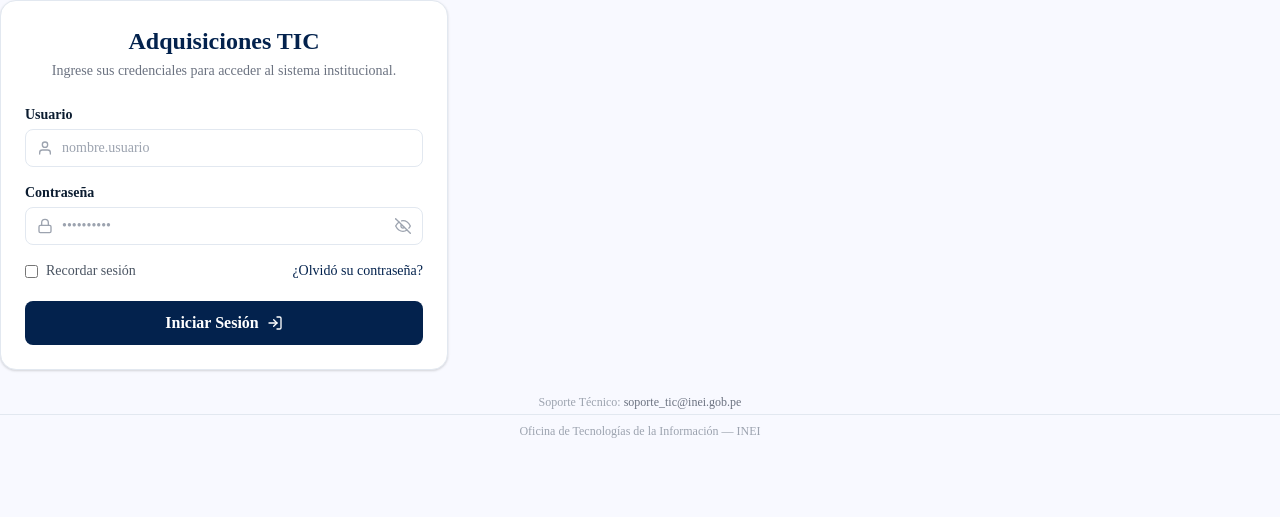
Test: LoginPage › shows error message when login returns 401
In the field labelled "Usuario": (224, 148) top-left (25, 129), bottom-right (423, 167), type "admin"
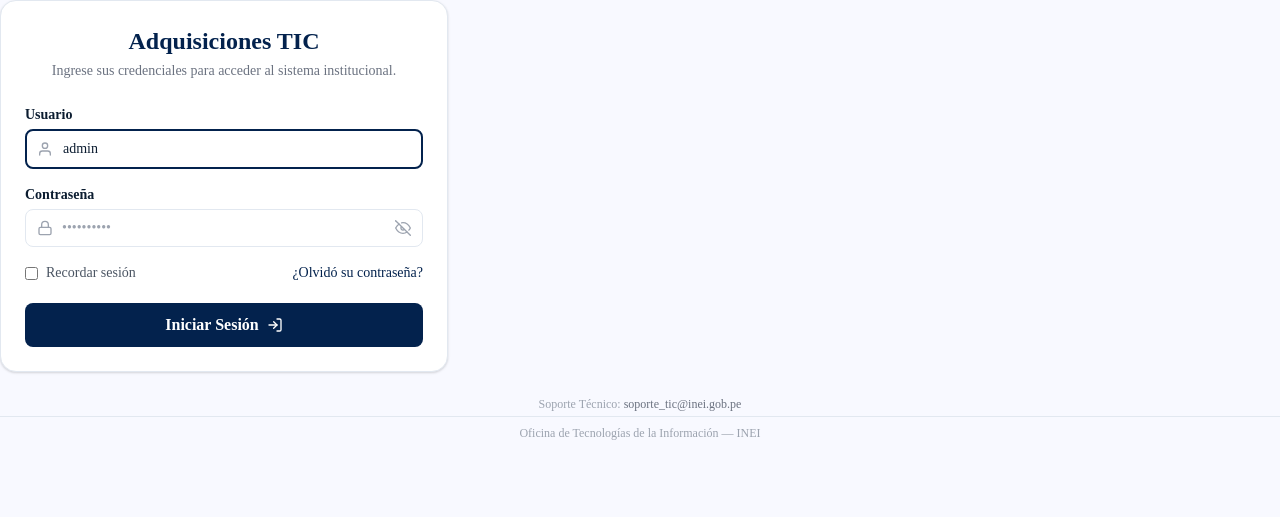
In the password field labelled "Contraseña": (224, 228) top-left (25, 209), bottom-right (423, 247), type "wrong"
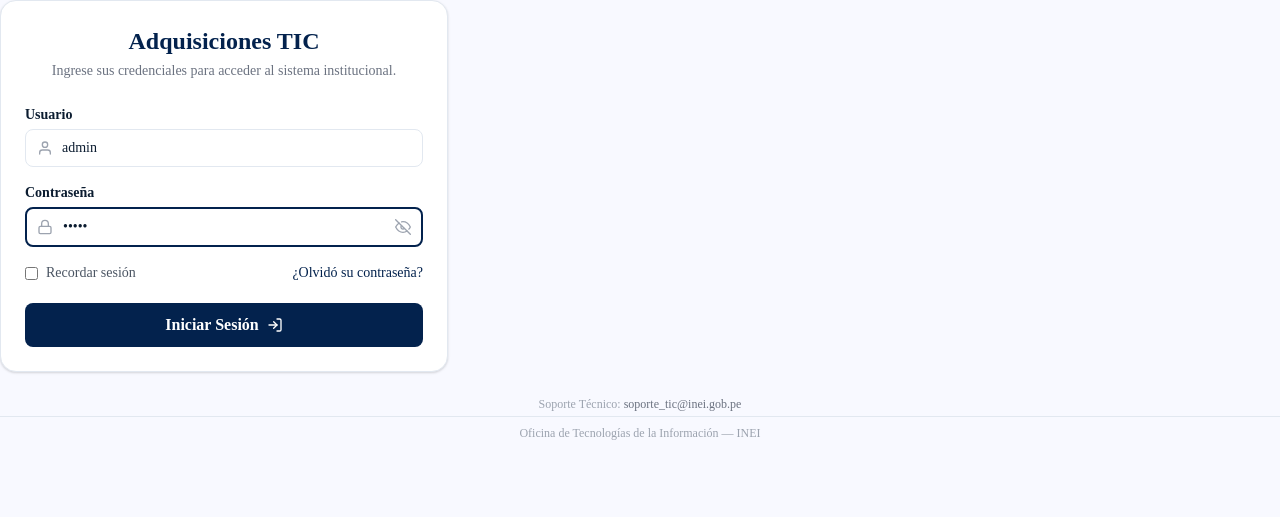
Click the button "Iniciar Sesión": click(224, 325) top-left (25, 303), bottom-right (423, 347)
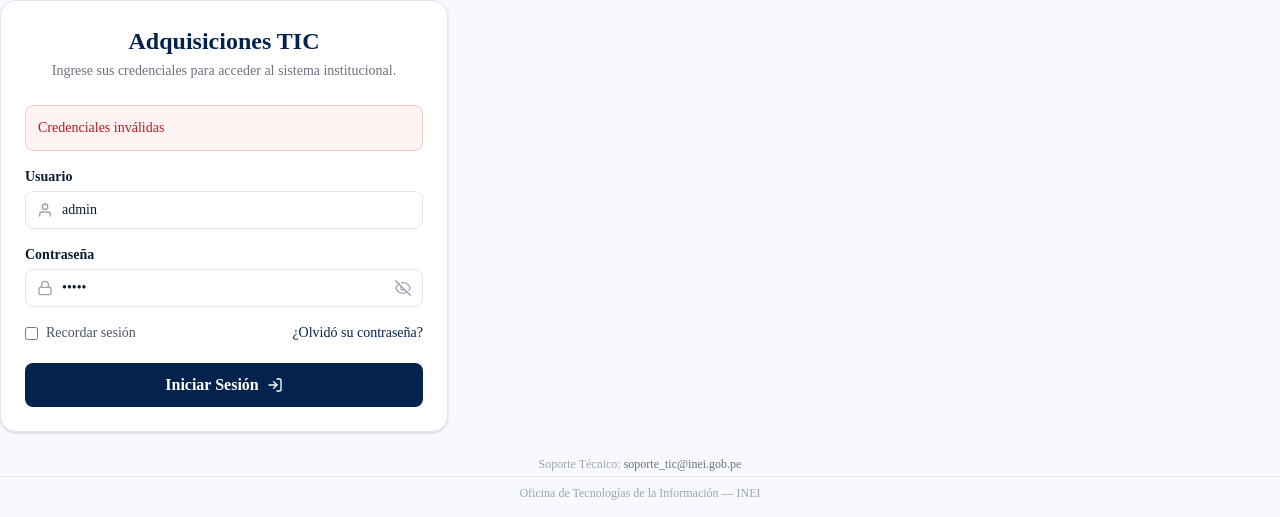
expect the message reads "Credenciales inválidas": met, box top-left (38, 120), bottom-right (164, 135)
